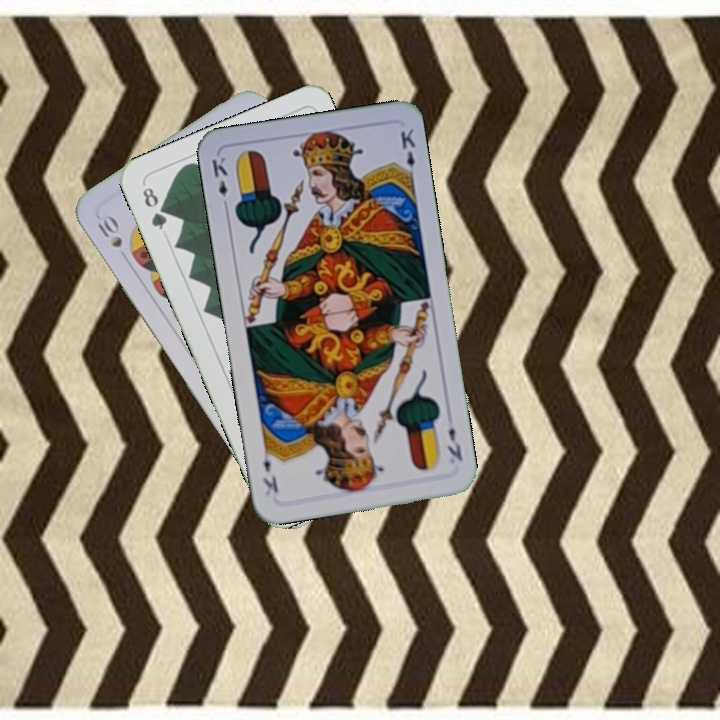EK: (207, 153, 231, 212), (443, 423, 465, 463)
G8: (138, 183, 170, 233)
S10: (93, 210, 125, 251)
